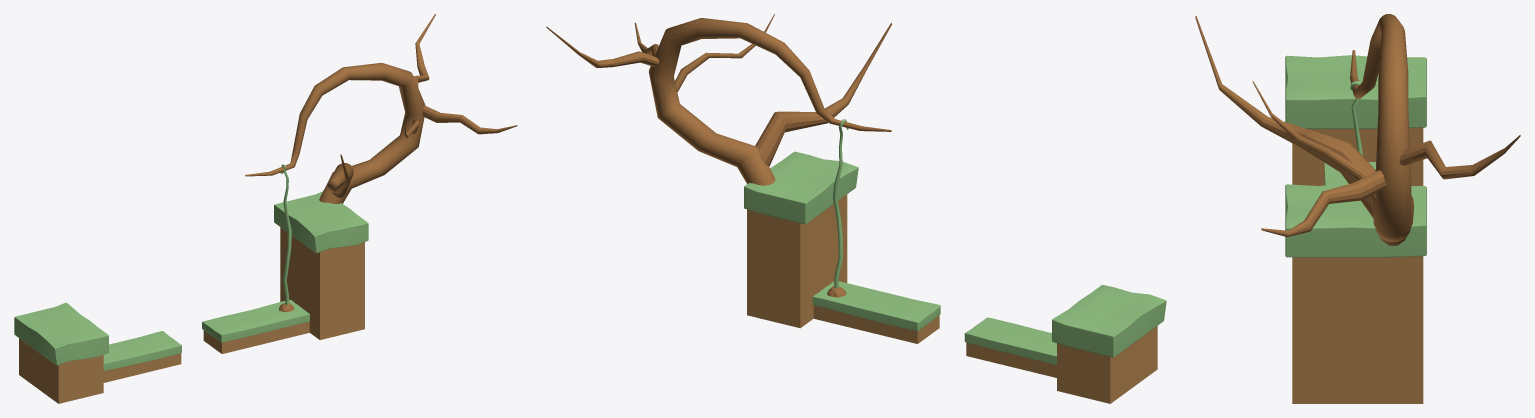
The picture shows the model from 3 angles, left to right: view 1: azimuth 30°, elevation 25°; view 2: azimuth 150°, elevation 25°; view 3: azimuth 270°, elevation 25°; orthographic projection. The views are drawn at different scales.
Visible parts, largest first — view 1: pCube2, polySurface1, pCube1, pCube3, pCube7, pCube6, pCube5, pCylinder7; view 2: polySurface1, pCube2, pCube1, pCube3, pCube7, pCube6, pCube5, pCylinder7; view 3: pCube2, polySurface1, pCube3, pCube7, pCube1, pCube5, pCylinder7.
Boxes of the visible parts, left/top/right/bottom form: pCube2: left=203, top=227, right=364, bottom=353; polySurface1: left=245, top=14, right=517, bottom=203; pCube1: left=19, top=338, right=181, bottom=403; pCube3: left=14, top=302, right=108, bottom=365; pCube7: left=274, top=191, right=368, bottom=253; pCube6: left=202, top=299, right=309, bottom=342; pCube5: left=103, top=331, right=181, bottom=370; pCylinder7: left=280, top=164, right=291, bottom=304; polySurface1: left=546, top=14, right=891, bottom=185; pCube2: left=747, top=194, right=939, bottom=343; pCube1: left=966, top=326, right=1157, bottom=403; pCube3: left=1052, top=285, right=1166, bottom=357; pCube7: left=744, top=151, right=858, bottom=224; pCube6: left=812, top=281, right=940, bottom=330; pCube5: left=964, top=317, right=1056, bottom=364; pCylinder7: left=833, top=119, right=848, bottom=288; pCube2: left=1292, top=256, right=1423, bottom=403; polySurface1: left=1195, top=14, right=1520, bottom=245; pCube3: left=1285, top=55, right=1426, bottom=128; pCube7: left=1285, top=184, right=1426, bottom=257; pCube1: left=1292, top=127, right=1423, bottom=185; pCube5: left=1324, top=162, right=1375, bottom=185; pCylinder7: left=1350, top=81, right=1362, bottom=155.
Bounding box in the file's own units: 38.34 × 19 × 14.34.
